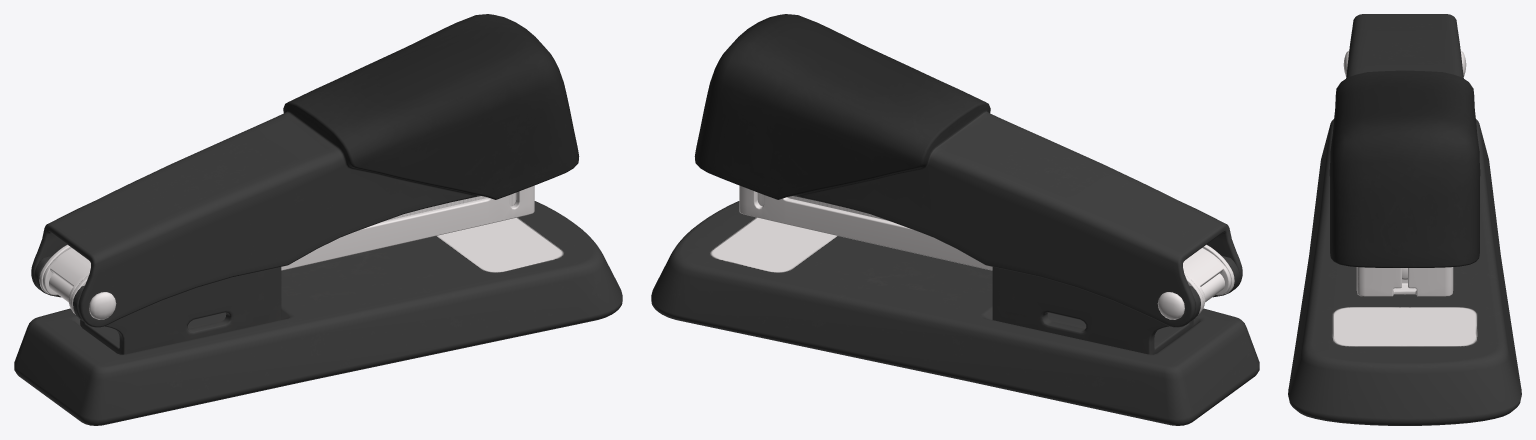
File: arunangshubanerjee-stapler-2089.glb
3 renders of one model, left to right at view 1: azimuth 30°, elevation 25°; view 2: azimuth 150°, elevation 25°; view 3: azimuth 270°, elevation 25°, orthographic.
Visible parts, largest first — view 1: stapler_base_stylized_lod0; view 2: stapler_base_stylized_lod0; view 3: stapler_base_stylized_lod0.
Part boxes in pixels (x1,y1,x2,y2): stapler_base_stylized_lod0: (14, 14, 622, 425); stapler_base_stylized_lod0: (651, 14, 1259, 425); stapler_base_stylized_lod0: (1288, 14, 1521, 425).
Bounding box in the file's own units: 0.1544 × 0.071 × 0.057.
1 material, 1 textured.
